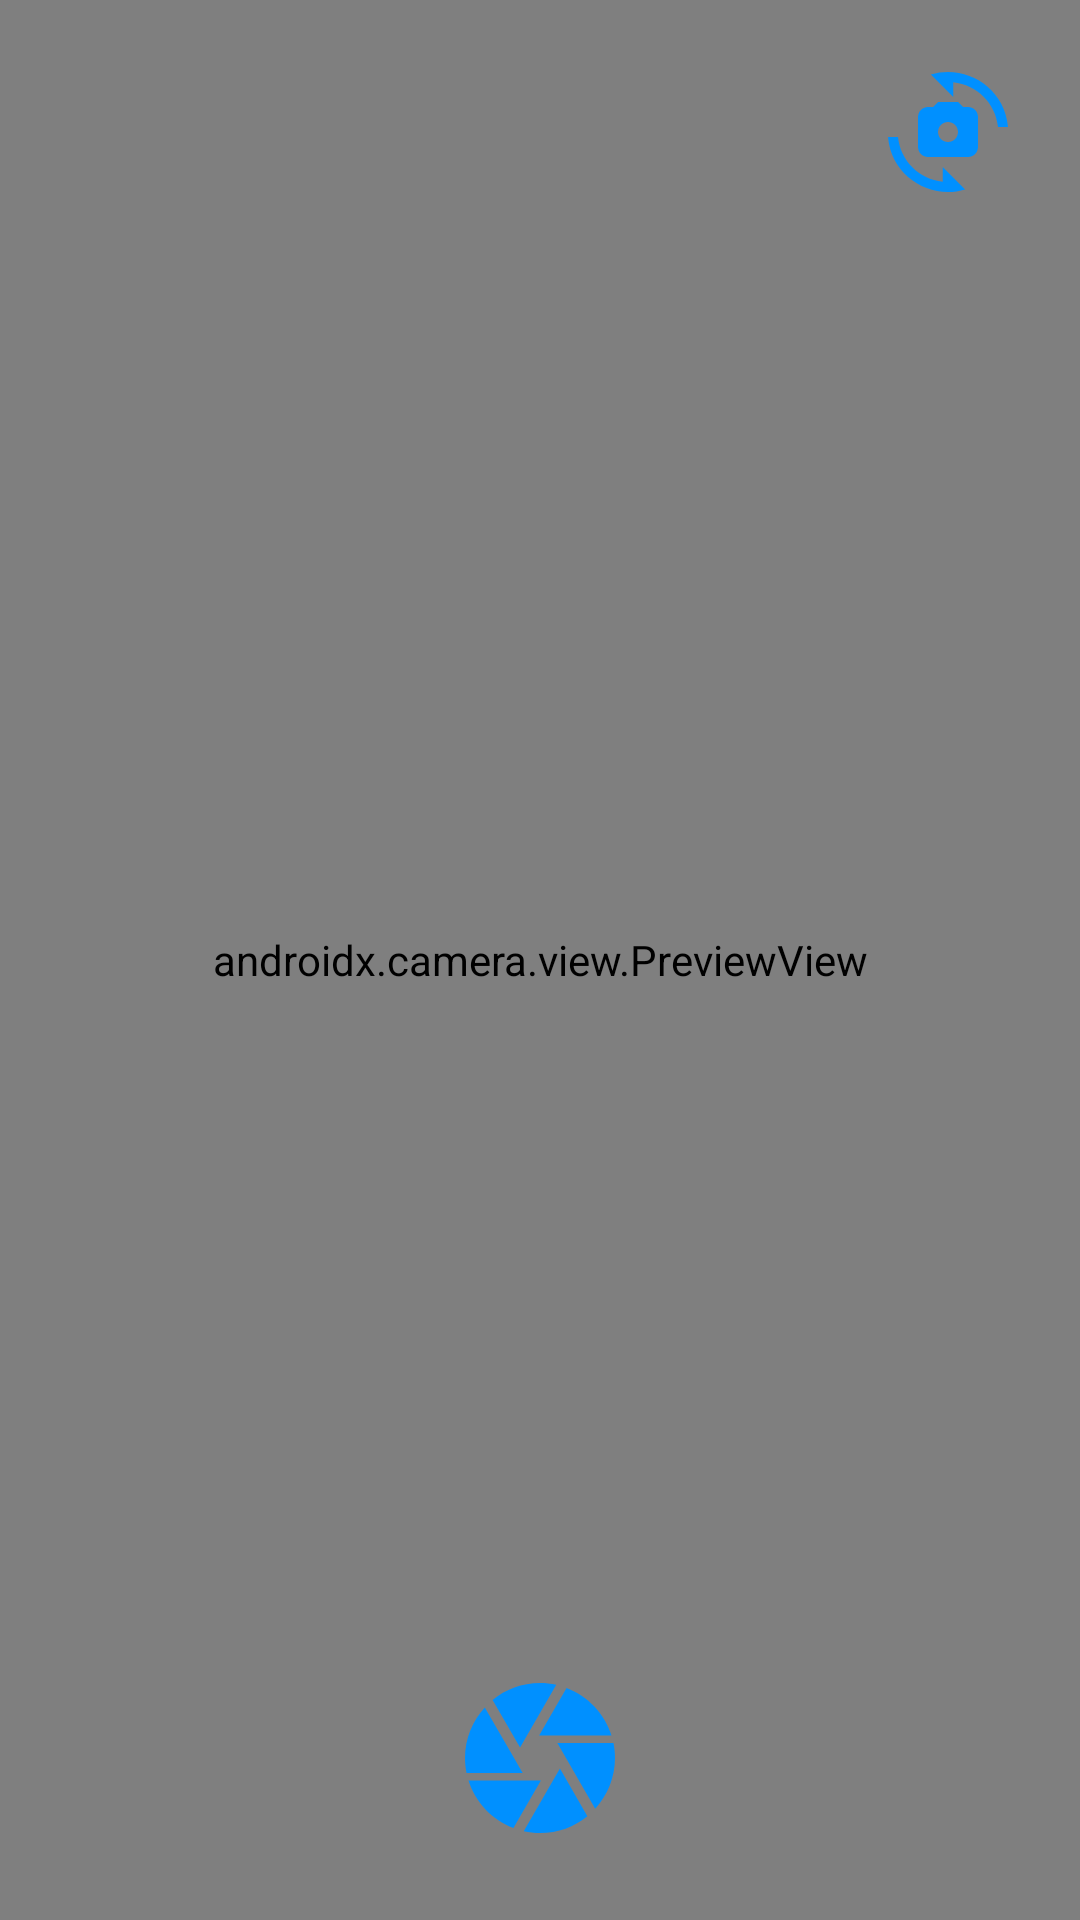

Icon bounding boxes for this 1080px x 1920px phone screenshot, format (x1,y1,x2,y2):
cameraswitch: (888,72,1008,192)
